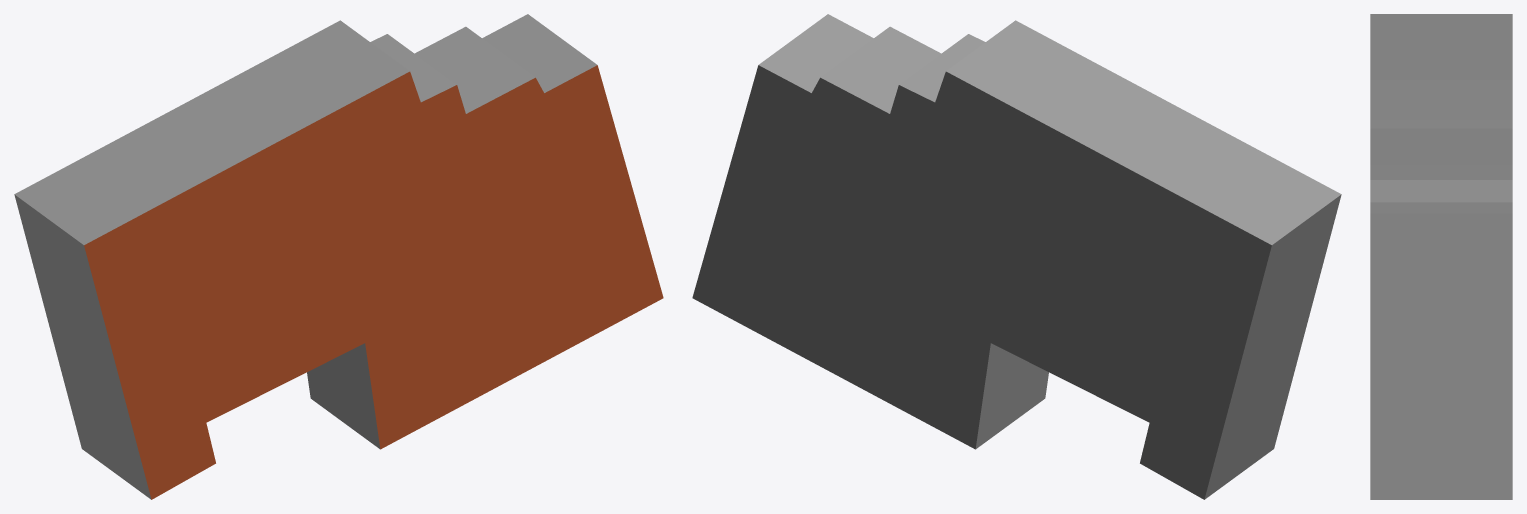
Rendered from construction_3075_assumed_A_Casa_h6m.obj.
3 views of the same model, side by side, from view 1: azimuth 30°, elevation 25°; view 2: azimuth 150°, elevation 25°; view 3: azimuth 270°, elevation 25° (orthographic).
Parts seen in each view (by area): view 1: construction_3075_assumed_A_Casa; view 2: construction_3075_assumed_A_Casa; view 3: construction_3075_assumed_A_Casa.
Part boxes in pixels (x1,y1,x2,y2): construction_3075_assumed_A_Casa: (14, 14, 663, 499); construction_3075_assumed_A_Casa: (692, 14, 1341, 499); construction_3075_assumed_A_Casa: (1370, 14, 1512, 499).
Bounding box in the file's own units: 28.8 × 17.61 × 6.
